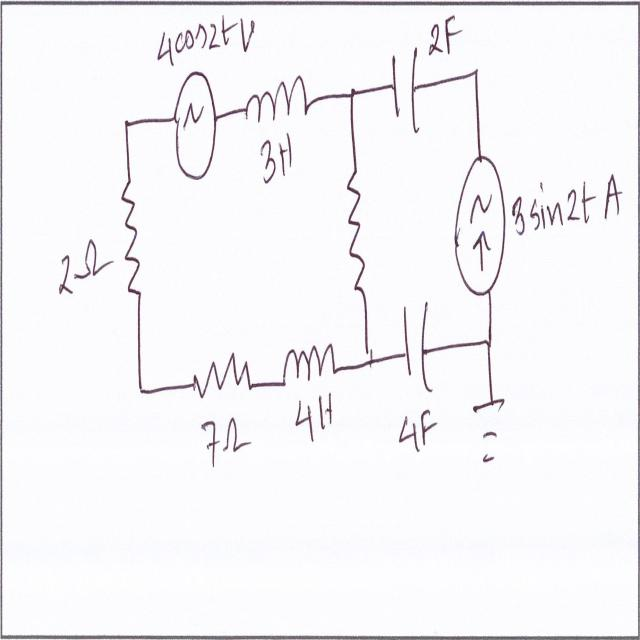ac_current: (171, 67, 220, 185)
capacitor: (399, 286, 442, 398), (388, 38, 424, 141)
current_source: (452, 150, 508, 305)
ground: (471, 381, 509, 480)
inductor: (243, 72, 314, 127), (280, 336, 338, 390)
resistor: (344, 160, 374, 306), (120, 175, 148, 308), (190, 356, 257, 406)
